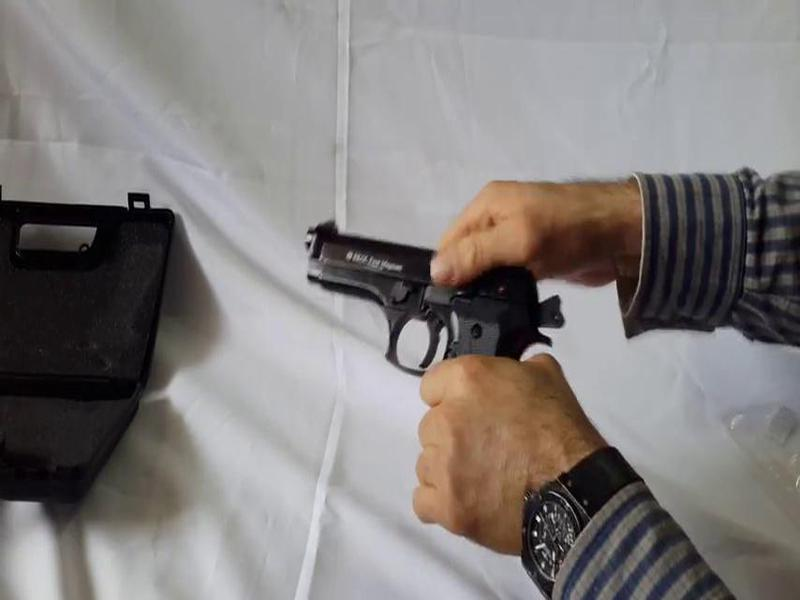Pistola: (298, 213, 557, 434)
